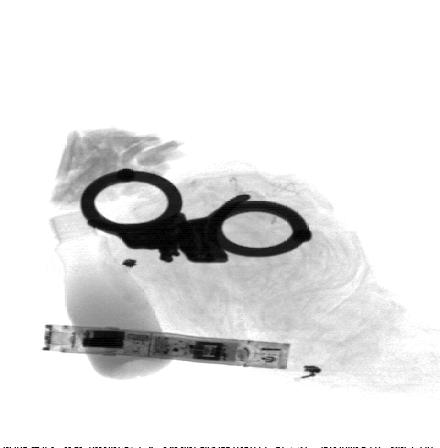Baton: (42, 324, 292, 372)
HandCuffs: (79, 167, 314, 265)
